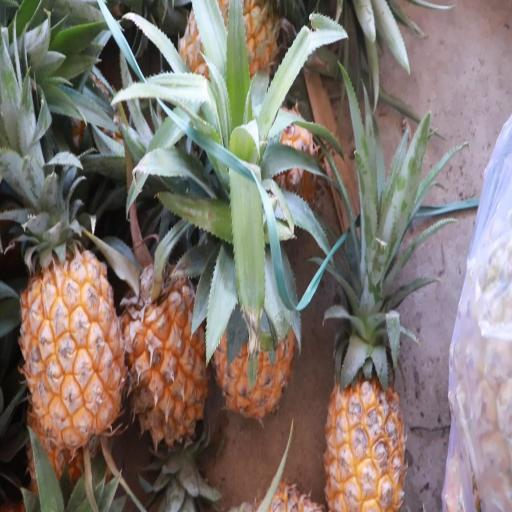Pineapple - v8 v1: (16, 236, 130, 456), (119, 249, 214, 449), (207, 230, 294, 433), (320, 339, 408, 512)
